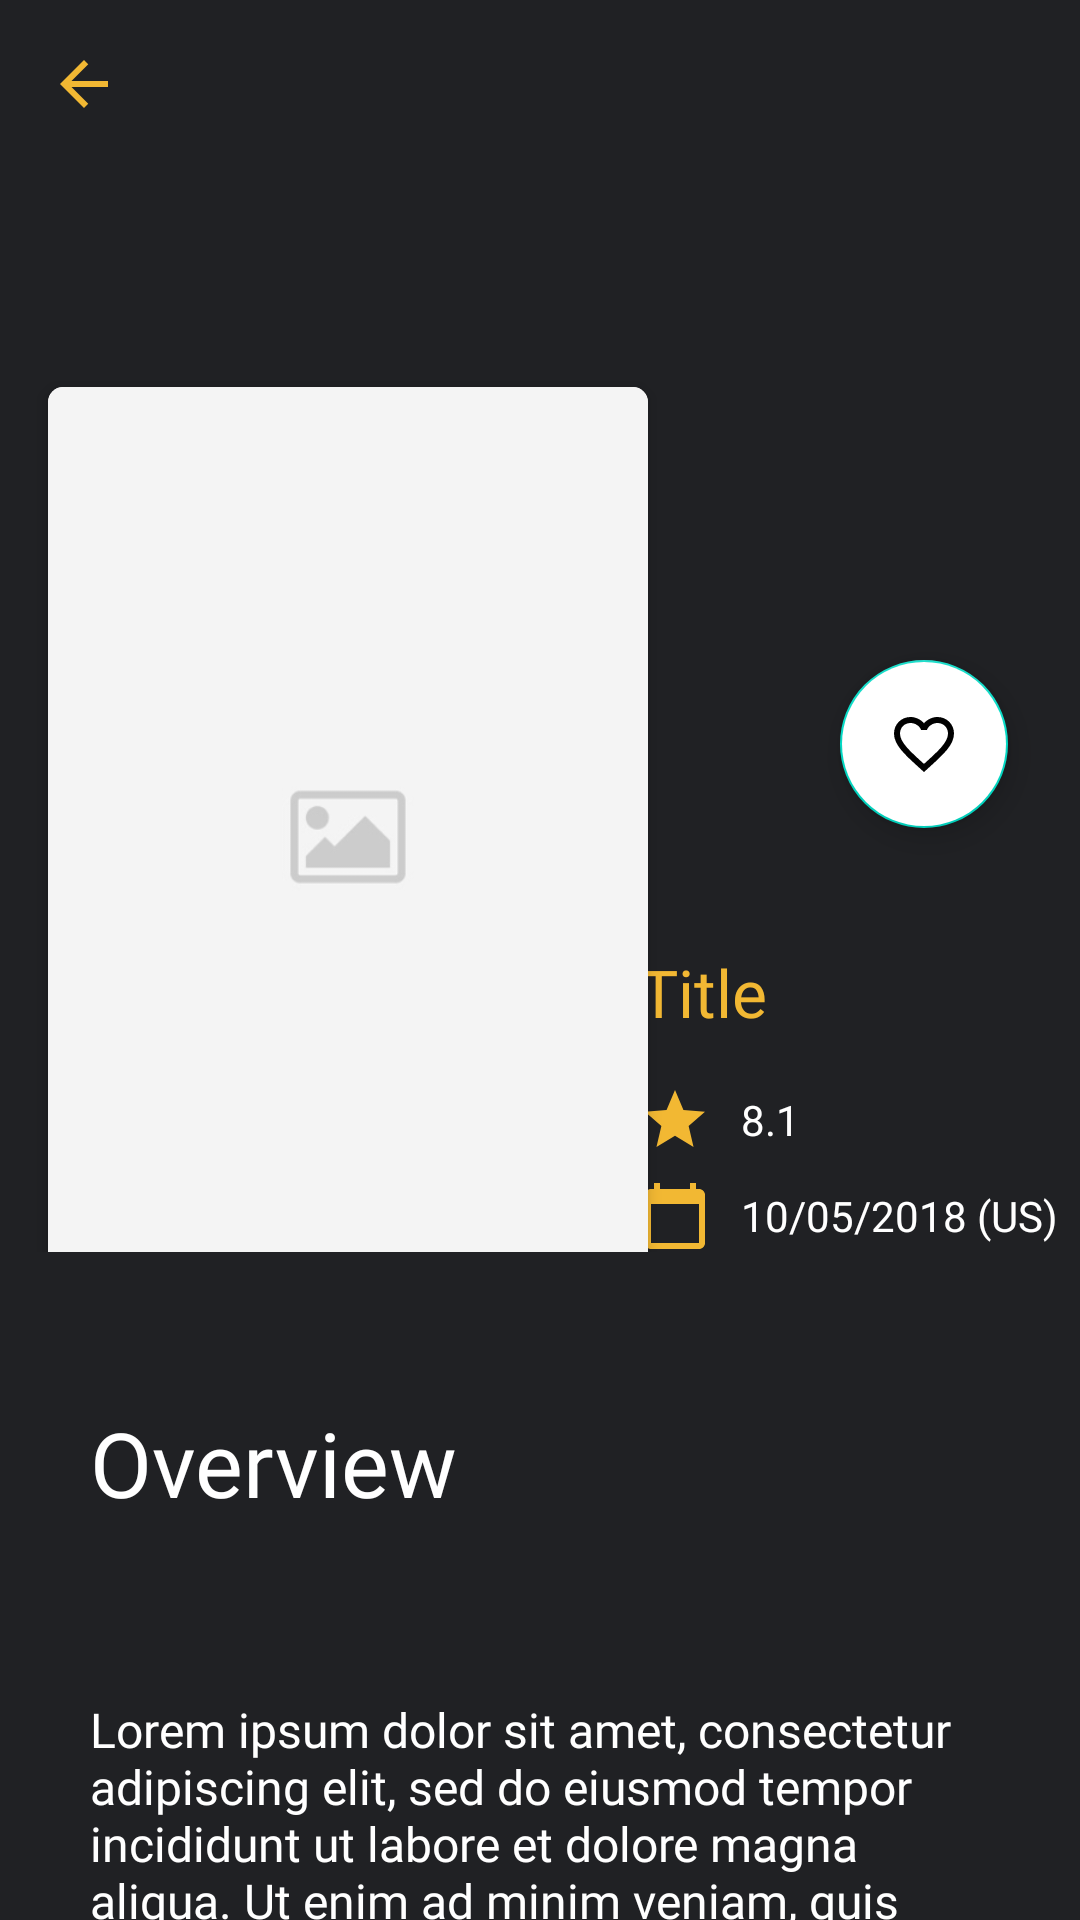

Where icons sit on this 1080x1920 app screen, as (x1, y1, x2, y2):
Favo Button: (840, 660, 1008, 828)
